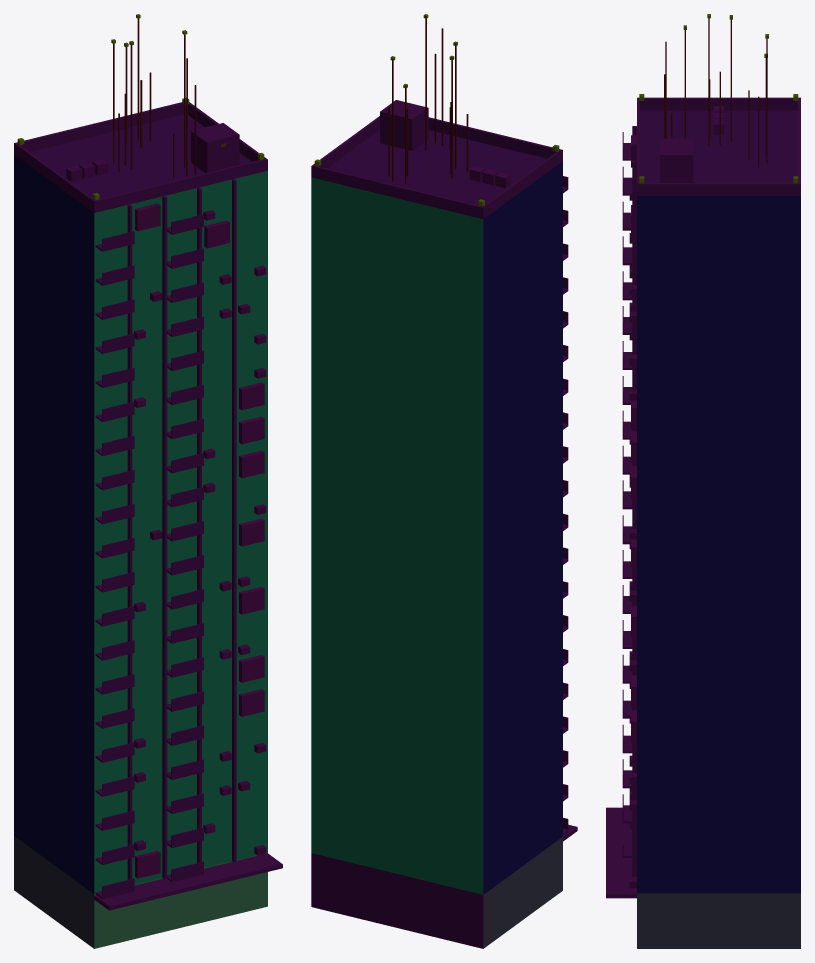
Rendered from slab_b.lod1.glb.
3 views of the same model, side by side, from view 1: azimuth 30°, elevation 25°; view 2: azimuth 150°, elevation 25°; view 3: azimuth 270°, elevation 25° (orthographic). The views are drawn at different scales.
Visible parts, largest first — view 1: slab_b.lod1; view 2: slab_b.lod1; view 3: slab_b.lod1.
Boxes of the visible parts, x1,y1,x2,y2 form: slab_b.lod1: (14, 14, 282, 948); slab_b.lod1: (311, 14, 577, 948); slab_b.lod1: (606, 14, 800, 948).
Bounding box in the file's own units: 16 × 76.85 × 15.2.
